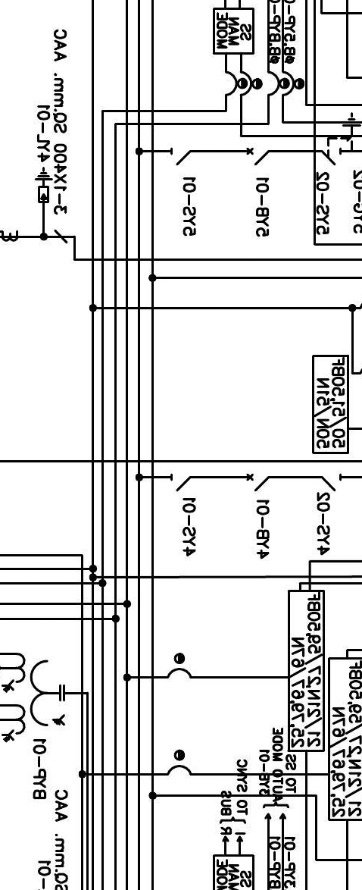115_breaker: (246, 473, 270, 492), (246, 147, 269, 166)
115_cvt_3p: (1, 652, 66, 743)
115_ds: (170, 473, 191, 492), (170, 147, 191, 166), (322, 473, 342, 492)
115_la: (34, 166, 54, 203)
ss_man_mode: (212, 7, 255, 55)
